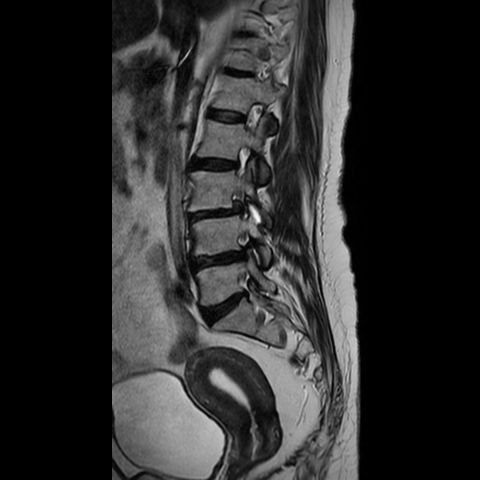RFS0: (222, 137, 261, 182)
